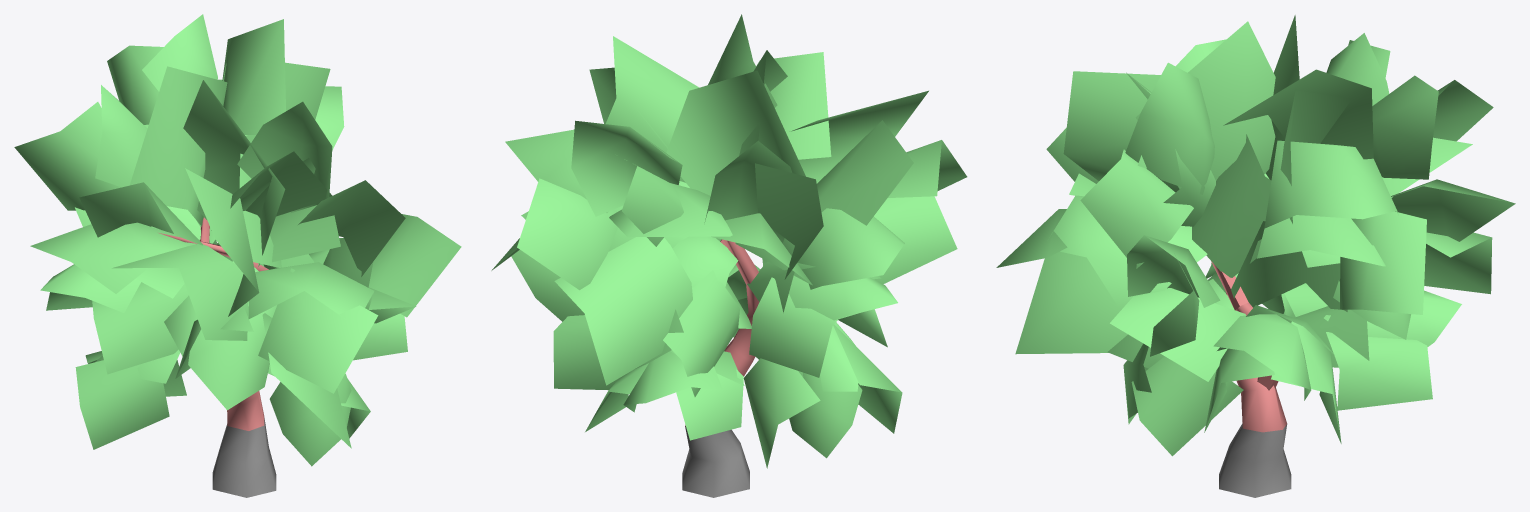
Rendered from gludio_tree_S__Generaltree3DC.gltf.
3 views of the same model, side by side, from view 1: azimuth 30°, elevation 25°; view 2: azimuth 150°, elevation 25°; view 3: azimuth 270°, elevation 25° (orthographic). The views are drawn at different scales.
Parts seen in each view (by area): view 1: Generaltree3DC; view 2: Generaltree3DC; view 3: Generaltree3DC.
Part boxes in pixels (x1,y1,x2,y2): Generaltree3DC: (14, 14, 461, 497); Generaltree3DC: (491, 14, 967, 497); Generaltree3DC: (996, 15, 1515, 497).
Size of the model in its own units: 6.77 by 7.49 by 7.88.
